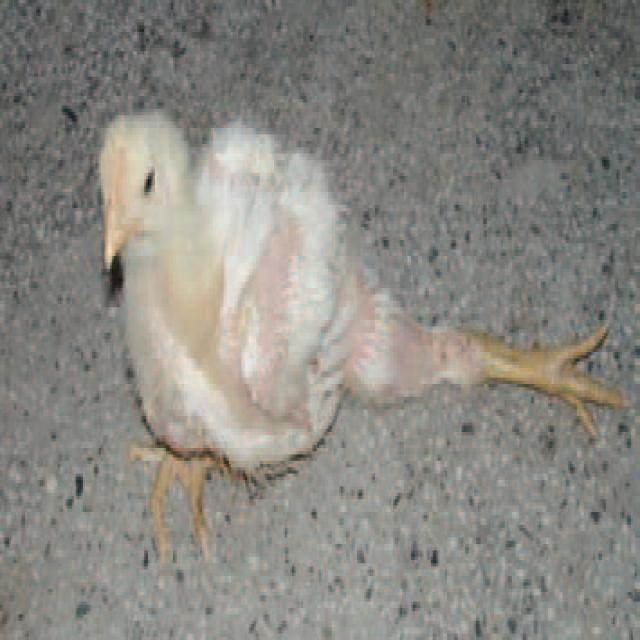leg stretching: (66, 47, 619, 553)
